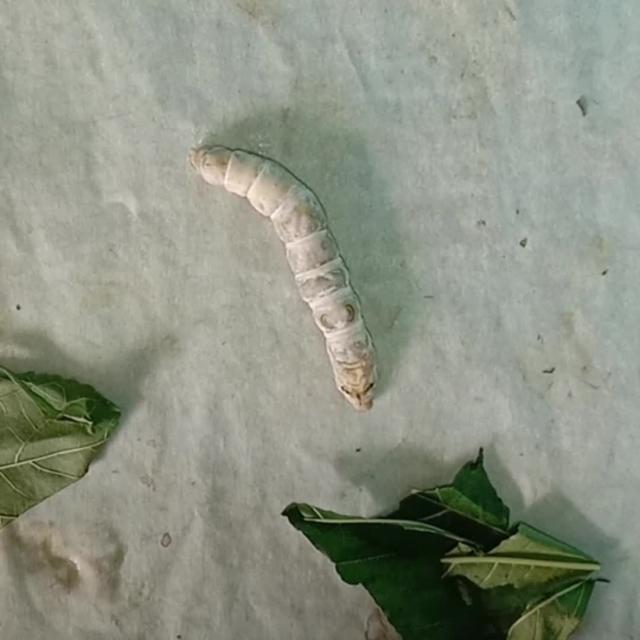Grasserie: (180, 139, 396, 417)
